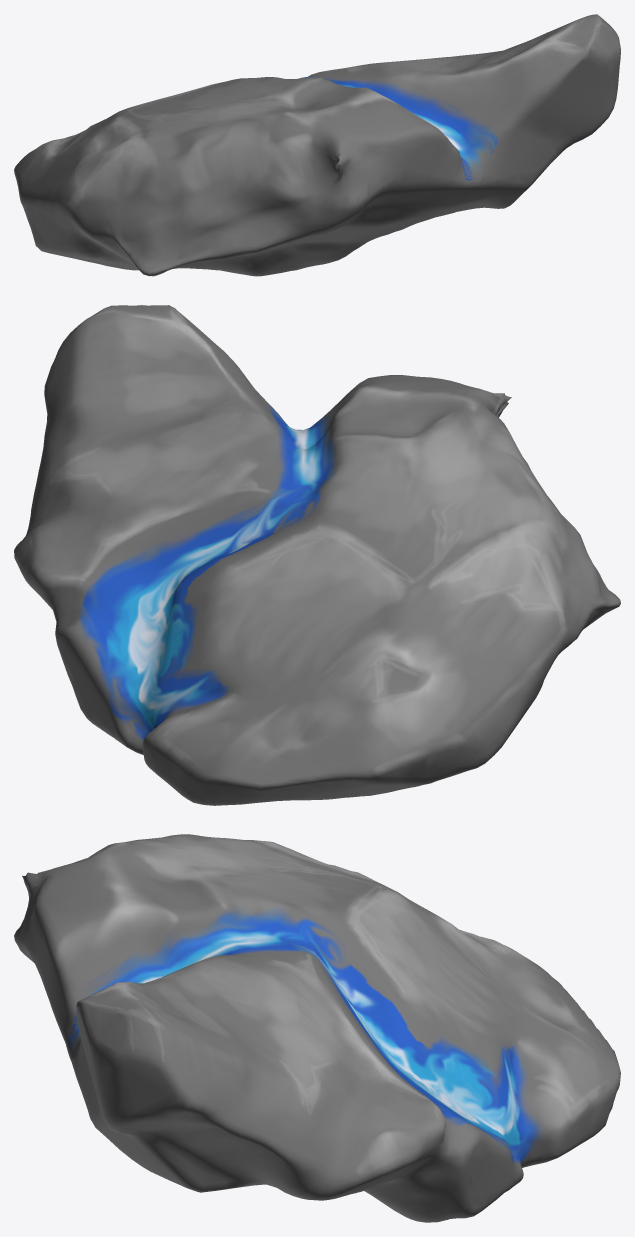
The model's file is sculpture_12.glb.
3 views of the same model, one above another, from view 1: azimuth 30°, elevation 25°; view 2: azimuth 150°, elevation 25°; view 3: azimuth 270°, elevation 25° (orthographic). The views are drawn at different scales.
Parts seen in each view (by area): view 1: SCL_01_04; view 2: SCL_01_04; view 3: SCL_01_04.
Boxes of the visible parts, left/top/right/bottom form: SCL_01_04: left=14, top=14, right=620, bottom=276; SCL_01_04: left=14, top=305, right=620, bottom=805; SCL_01_04: left=14, top=834, right=620, bottom=1222.
Size of the model in its own units: 0.3121 by 0.154 by 0.272.
1 material, 1 textured.
